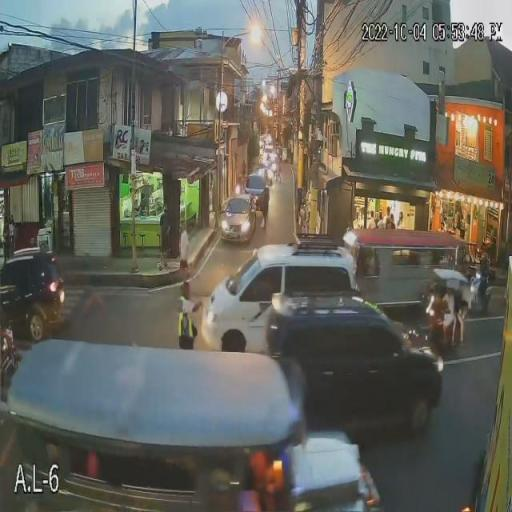helmet: (480, 255, 491, 271)
motorcycle: (466, 270, 492, 316)
rider: (470, 255, 488, 292)
